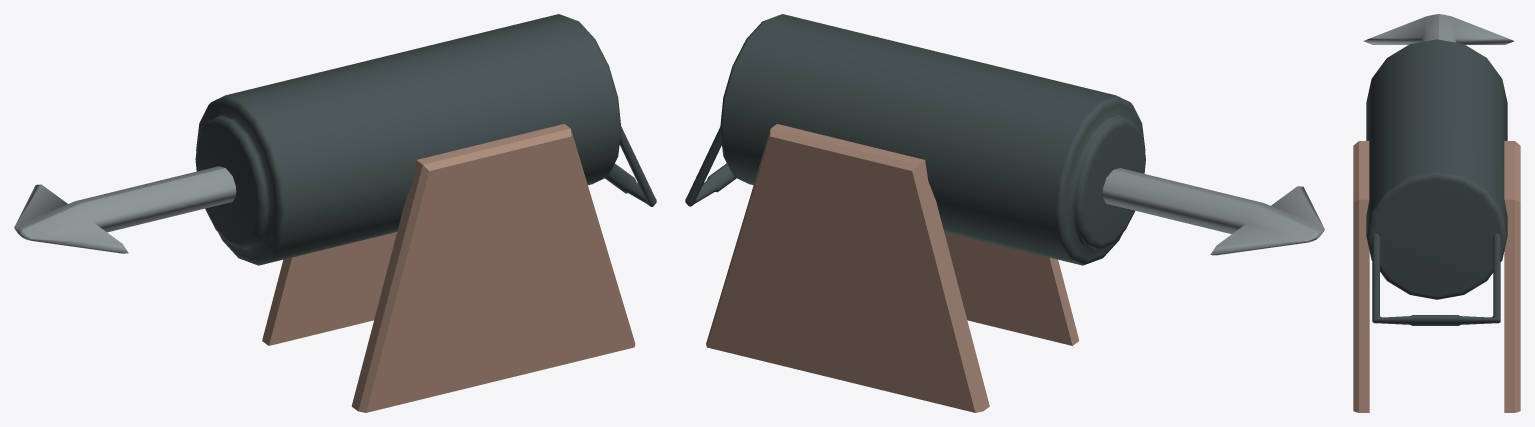
The model's file is Harpon.fbx.
3 renders of one model, left to right at view 1: azimuth 30°, elevation 25°; view 2: azimuth 150°, elevation 25°; view 3: azimuth 270°, elevation 25°, orthographic. The views are drawn at different scales.
Visible parts, largest first — view 1: bois_Harpon, harpon, harpofer; view 2: bois_Harpon, harpon, harpofer; view 3: harpon, bois_Harpon, harpofer.
Boxes of the visible parts, x1=… form: bois_Harpon: x1=262, y1=124, x2=635, y2=412; harpon: x1=195, y1=14, x2=656, y2=265; harpofer: x1=14, y1=166, x2=236, y2=253; bois_Harpon: x1=706, y1=124, x2=1078, y2=412; harpon: x1=685, y1=14, x2=1145, y2=265; harpofer: x1=1102, y1=168, x2=1324, y2=255; harpon: x1=1366, y1=39, x2=1507, y2=325; bois_Harpon: x1=1353, y1=141, x2=1520, y2=412; harpofer: x1=1363, y1=14, x2=1514, y2=44.
Size of the model in its own units: 3.13 by 1.45 by 0.9301.
1 material, 1 textured.
